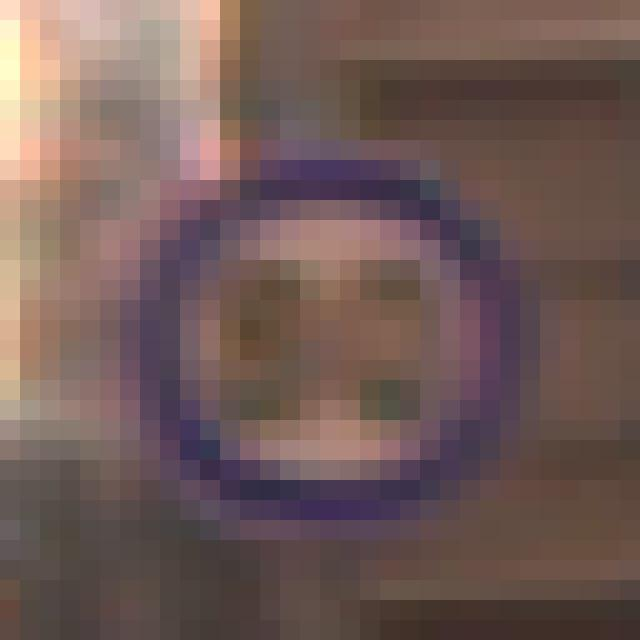SPEED-LIMIT-80: (130, 152, 507, 526)
